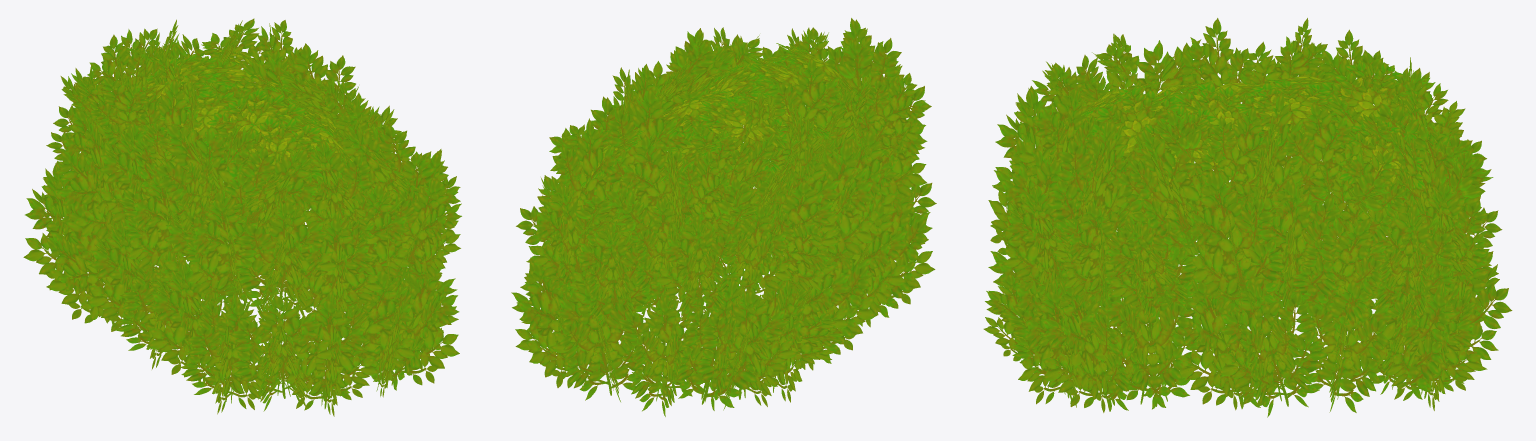
The model's file is Bush_01_B.fbx.
The picture shows the model from 3 angles, left to right: view 1: azimuth 30°, elevation 25°; view 2: azimuth 150°, elevation 25°; view 3: azimuth 270°, elevation 25°; orthographic projection. The views are drawn at different scales.
Parts seen in each view (by area): view 1: Bush_01_B; view 2: Bush_01_B; view 3: Bush_01_B.
Boxes of the visible parts, x1=… form: Bush_01_B: x1=23, y1=18, x2=461, y2=416; Bush_01_B: x1=511, y1=18, x2=936, y2=416; Bush_01_B: x1=983, y1=18, x2=1512, y2=417.
Bounding box in the file's own units: 321 × 290 × 453.
